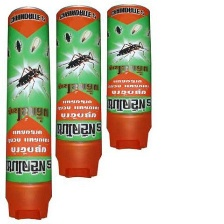aerosol_cans: (3, 2, 55, 221), (50, 3, 104, 182), (102, 0, 154, 152)
